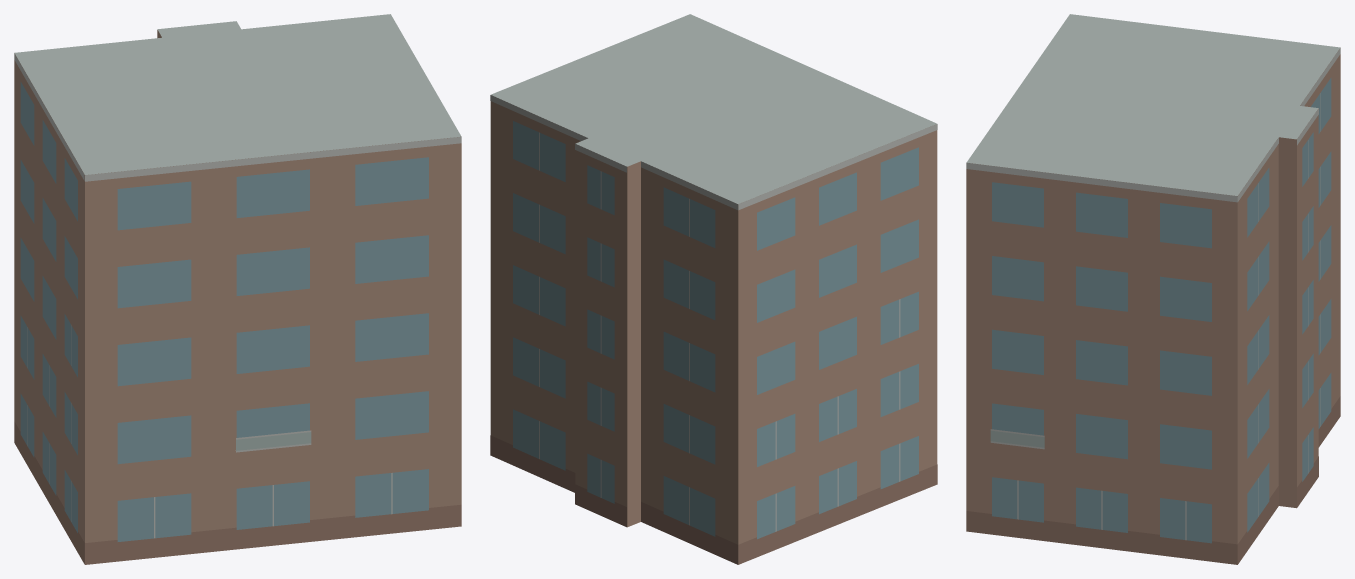
File: survey-upis-32874436.glb
3 views of the same model, side by side, from view 1: azimuth 30°, elevation 25°; view 2: azimuth 150°, elevation 25°; view 3: azimuth 270°, elevation 25° (orthographic). The views are drawn at different scales.
Parts seen in each view (by area): view 1: survey-upis-32874436.tmp; view 2: survey-upis-32874436.tmp; view 3: survey-upis-32874436.tmp.
Part boxes in pixels (x1,y1,x2,y2): survey-upis-32874436.tmp: (14,14,461,564); survey-upis-32874436.tmp: (490,14,937,564); survey-upis-32874436.tmp: (966,14,1340,564).
Bounding box in the file's own units: 15.15 × 14.3 × 13.16.
